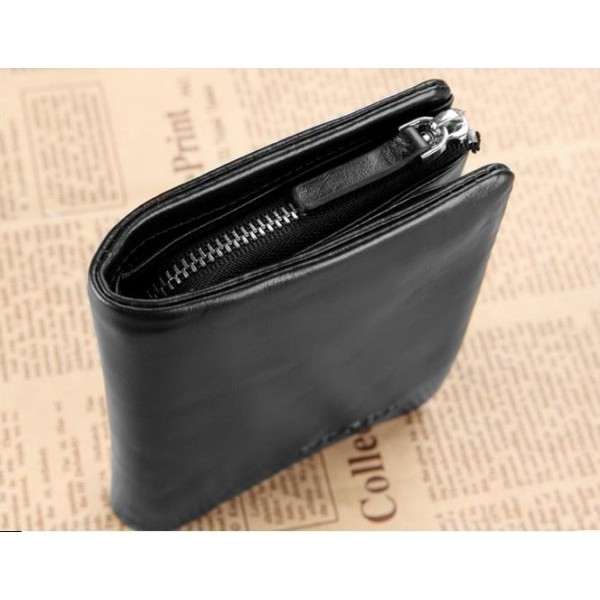monedero: (86, 78, 516, 531)
